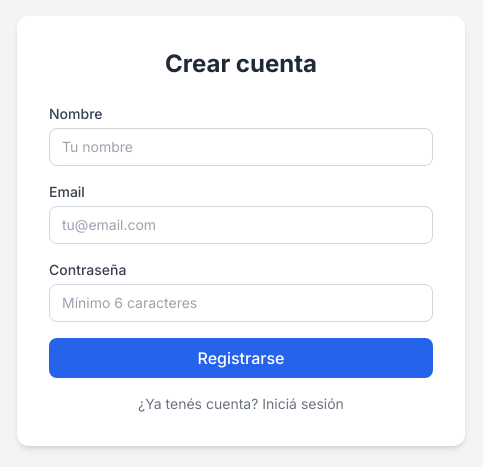
Scenario: Register — interacción › muestra "Registrando..." mientras espera la respuesta
This screenshot has width=483, height=467.
Type "Gian" into the field with placeholder "Tu nombre" at (241, 147), box [49,128,433,166]
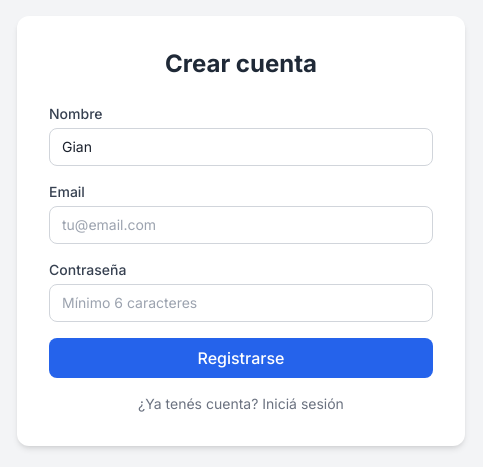
Type "gian@test.com" into the field with placeholder "tu@email.com" at (241, 225), box [49,206,433,244]
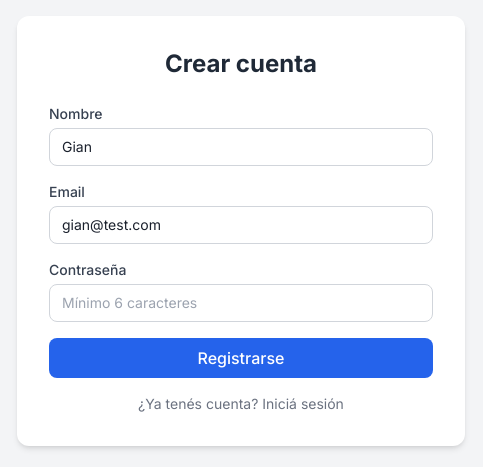
Type "123456" into the password field with placeholder "Mínimo 6 caracteres" at (241, 303), box [49,284,433,322]
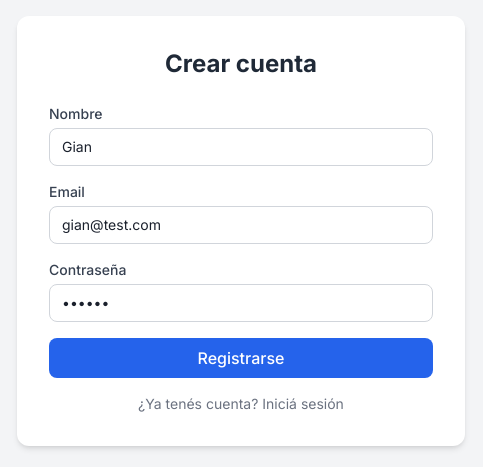
Click the button "Registrarse" at (241, 358), box [49,338,433,378]
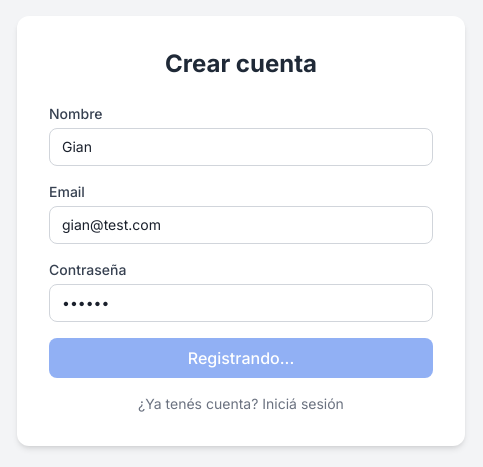
Check: the button "Registrando..." is shown, box [49,338,433,378]
